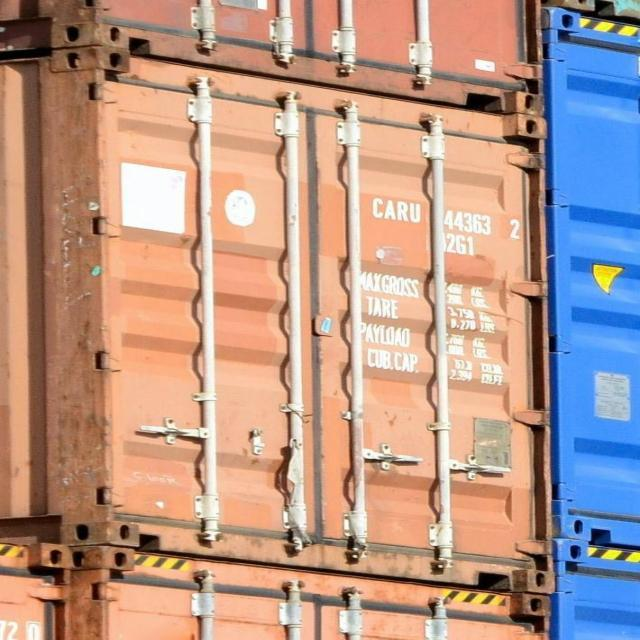ISO: (434, 234, 482, 260)
container_number: (368, 192, 526, 238)
